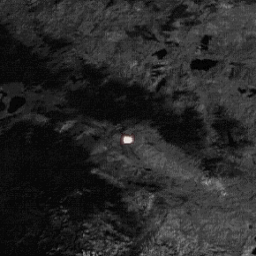Target: (121, 136, 134, 145)
